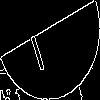I: (25, 25, 48, 73)
